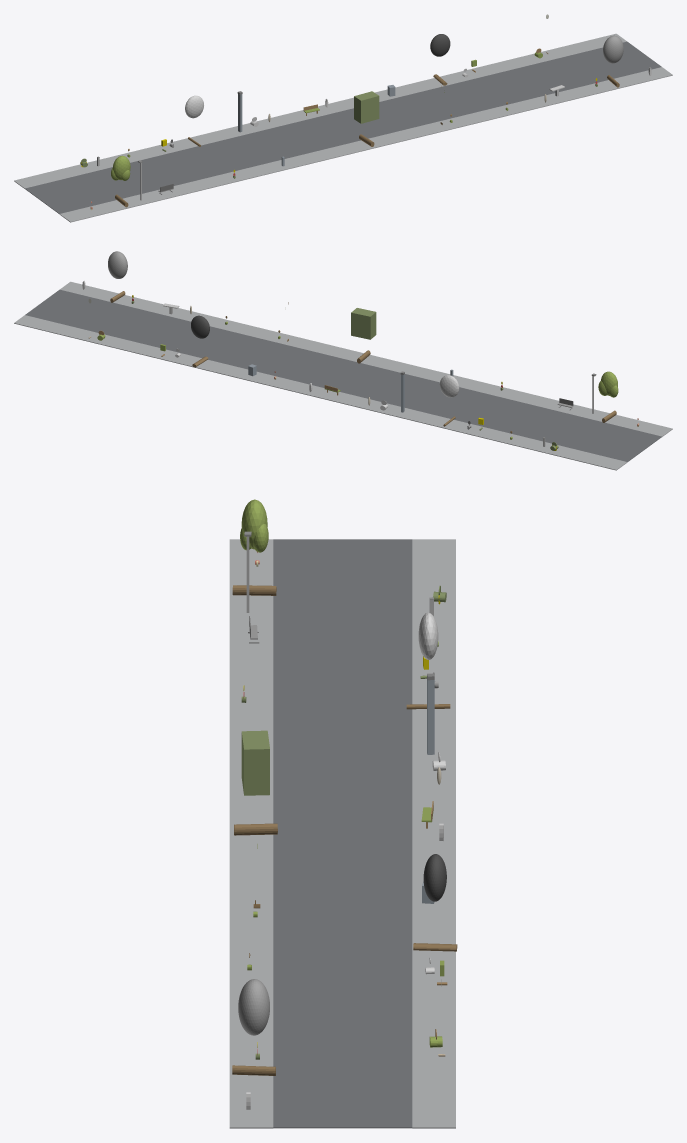
3 views of the same model, one above another, from view 1: azimuth 30°, elevation 25°; view 2: azimuth 150°, elevation 25°; view 3: azimuth 270°, elevation 25° (orthographic). The views are drawn at different scales.
Parts seen in each view (by area): view 1: road_slab, sidewalk_left, sidewalk_right, inst_0014, inst_0016, inst_0012, inst_0015, inst_0013; view 2: road_slab, sidewalk_right, sidewalk_left, inst_0014, inst_0016, inst_0012, inst_0015, inst_0013; view 3: road_slab, sidewalk_right, sidewalk_left, inst_0014, inst_0016, inst_0012, inst_0015, inst_0013.
Part boxes in pixels (left/top/right/bottom): road_slab: left=25, top=41, right=661, bottom=213; sidewalk_left: left=59, top=67, right=672, bottom=222; sidewalk_right: left=14, top=33, right=626, bottom=188; inst_0014: left=354, top=91, right=379, bottom=146; inst_0016: left=603, top=35, right=623, bottom=87; inst_0012: left=111, top=155, right=130, bottom=207; inst_0015: left=430, top=34, right=450, bottom=85; inst_0013: left=185, top=95, right=203, bottom=146; road_slab: left=25, top=289, right=661, bottom=462; sidewalk_right: left=14, top=315, right=627, bottom=470; sidewalk_left: left=60, top=281, right=672, bottom=436; inst_0014: left=351, top=308, right=376, bottom=363; inst_0016: left=108, top=251, right=127, bottom=302; inst_0012: left=598, top=371, right=618, bottom=422; inst_0015: left=191, top=315, right=209, bottom=367; inst_0013: left=439, top=375, right=459, bottom=426; road_slab: left=273, top=539, right=412, bottom=1128; sidewalk_right: left=412, top=539, right=455, bottom=1128; sidewalk_left: left=229, top=539, right=273, bottom=1128; inst_0014: left=234, top=730, right=277, bottom=835; inst_0016: left=232, top=979, right=275, bottom=1075; inst_0012: left=232, top=499, right=276, bottom=595; inst_0015: left=413, top=854, right=457, bottom=951; inst_0013: left=406, top=612, right=450, bottom=709.
Bounding box in the file's own units: 80 × 6.08 × 13.08.
